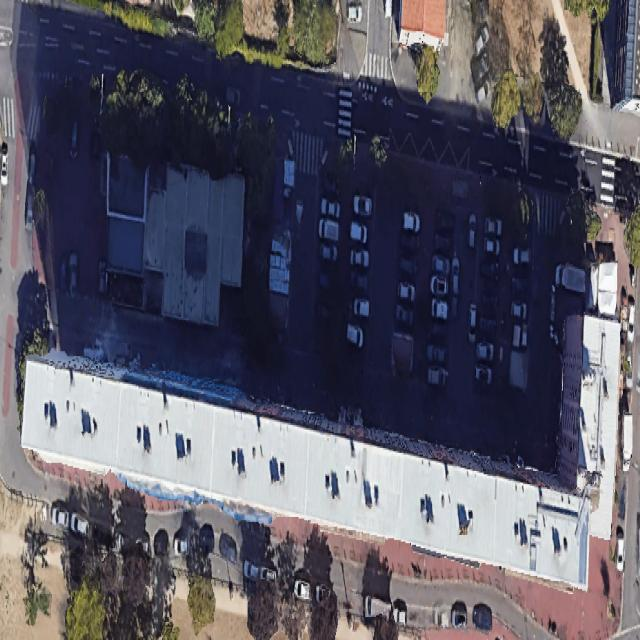immeuble: (15, 288, 621, 589)
